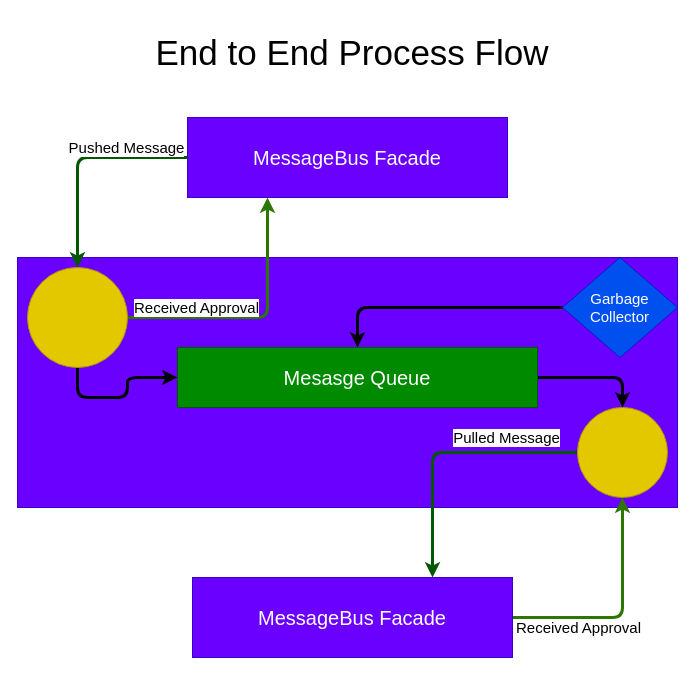
This 695x675 diagram has some shape labels left out. Each missing label, with the centre of its shape:
Pull Socket: pixel 622 452
Push Socket: pixel 77 317
